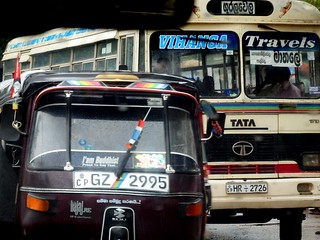bus: (2, 1, 320, 209)
threewheel: (1, 71, 207, 240)
